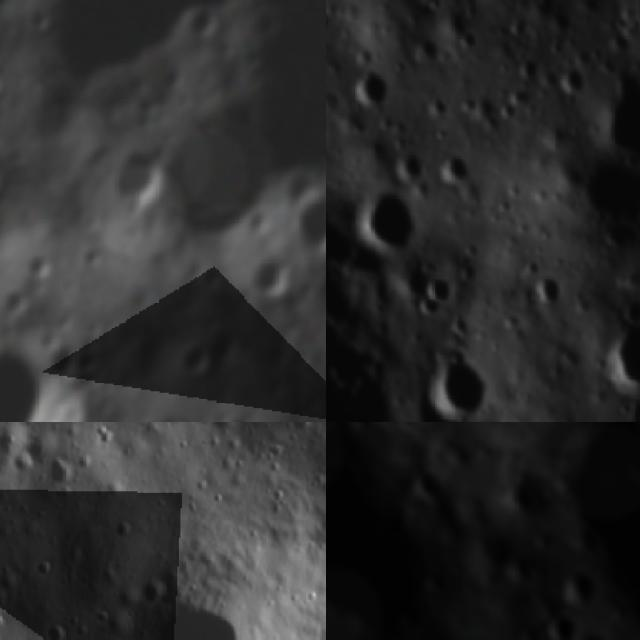crater: (145, 100, 313, 276), (0, 327, 112, 422), (558, 154, 640, 251), (139, 582, 262, 640), (101, 134, 172, 222), (414, 342, 490, 422), (352, 190, 432, 256), (26, 75, 92, 149), (603, 66, 640, 164), (246, 243, 298, 307), (603, 302, 640, 391), (286, 186, 326, 266), (178, 0, 231, 53), (165, 336, 216, 386), (347, 62, 398, 109), (43, 333, 85, 380), (20, 242, 59, 290), (439, 142, 476, 192), (550, 57, 590, 94), (72, 237, 110, 275), (71, 342, 107, 382), (42, 452, 80, 488), (197, 261, 230, 300), (530, 272, 564, 309), (422, 272, 457, 307), (511, 48, 545, 83), (26, 2, 53, 40), (419, 92, 452, 119), (565, 571, 591, 599), (456, 29, 482, 56), (416, 474, 443, 500), (42, 619, 73, 640), (548, 616, 574, 640), (0, 56, 10, 104), (0, 152, 9, 199), (288, 422, 319, 434), (23, 632, 52, 640)
